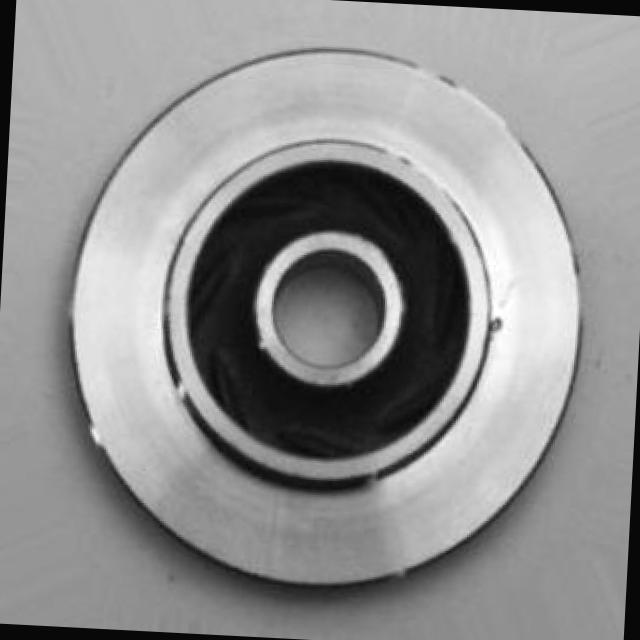Defect: (481, 310, 514, 337)
